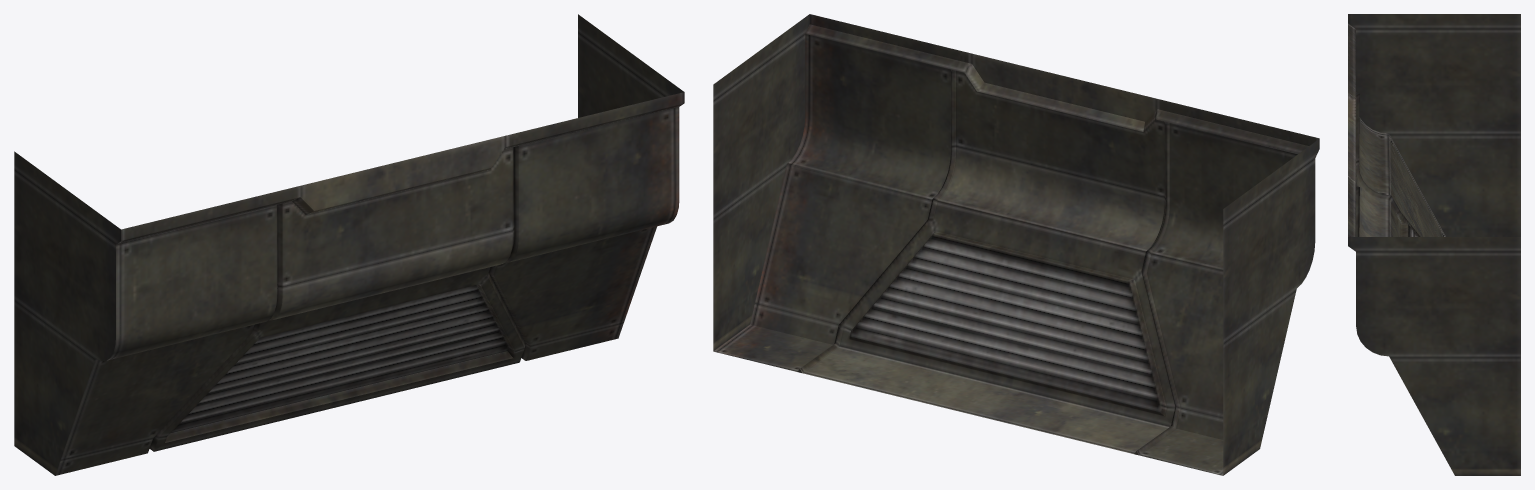
File: pplant_ground_top01.dae
The picture shows the model from 3 angles, left to right: view 1: azimuth 30°, elevation 25°; view 2: azimuth 150°, elevation 25°; view 3: azimuth 270°, elevation 25°; orthographic projection. The views are drawn at different scales.
Parts seen in each view (by area): view 1: ground_top01; view 2: ground_top01; view 3: ground_top01.
Boxes of the visible parts, bbox=[...] form: ground_top01: bbox=[14, 14, 684, 475]; ground_top01: bbox=[713, 14, 1319, 475]; ground_top01: bbox=[1348, 14, 1520, 475].
Size of the model in its own units: 4 by 2 by 1.31.
